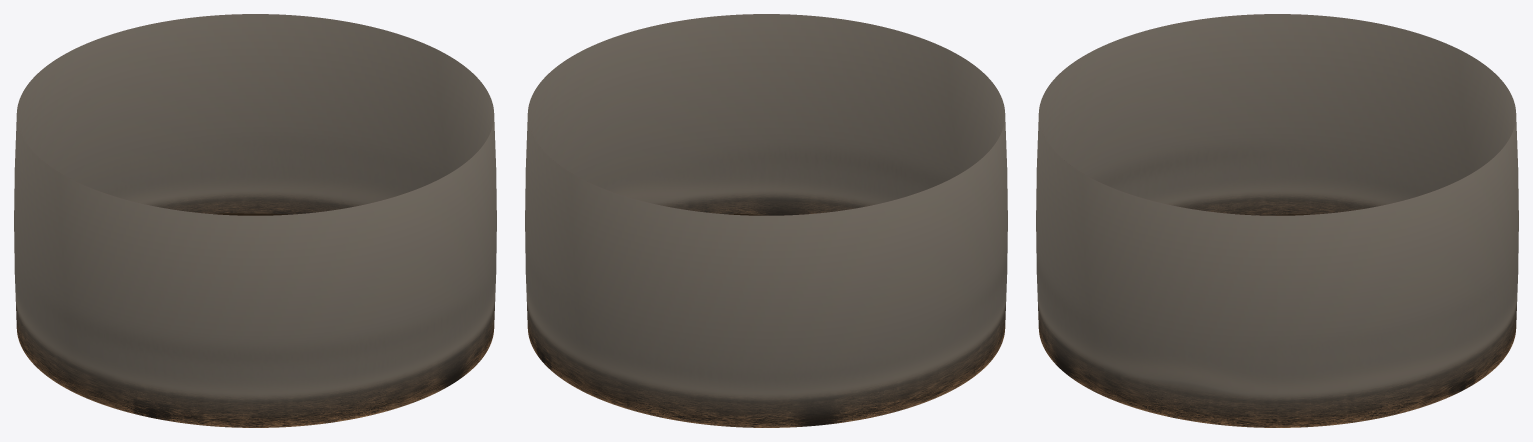
Rendered from long-road-panorama.glb.
3 views of the same model, side by side, from view 1: azimuth 30°, elevation 25°; view 2: azimuth 150°, elevation 25°; view 3: azimuth 270°, elevation 25° (orthographic).
Parts seen in each view (by area): view 1: LongRoadPanorama; view 2: LongRoadPanorama; view 3: LongRoadPanorama.
Part boxes in pixels (bbox=[...]): LongRoadPanorama: bbox=[14, 14, 496, 427]; LongRoadPanorama: bbox=[525, 14, 1007, 427]; LongRoadPanorama: bbox=[1036, 14, 1518, 427].
Size of the model in its own units: 526 by 255 by 526.
1 material, 1 textured.
